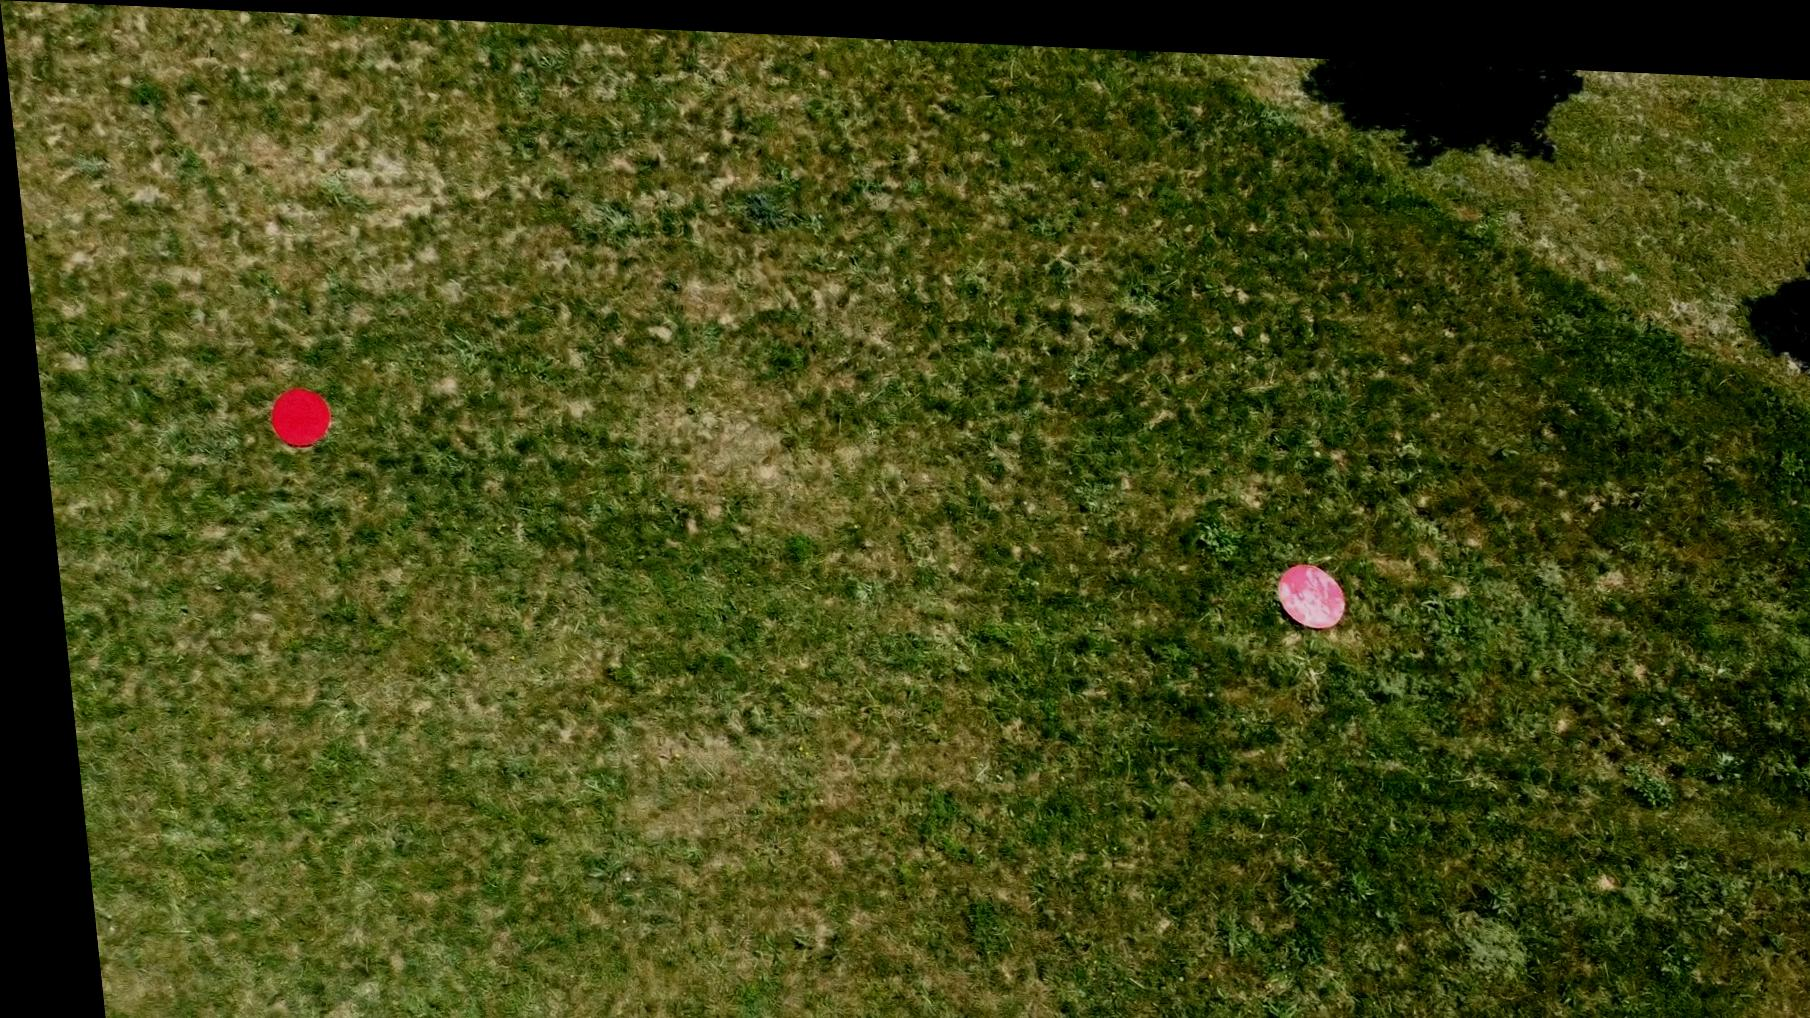Red: (1263, 549, 1343, 619), (256, 383, 327, 449)
